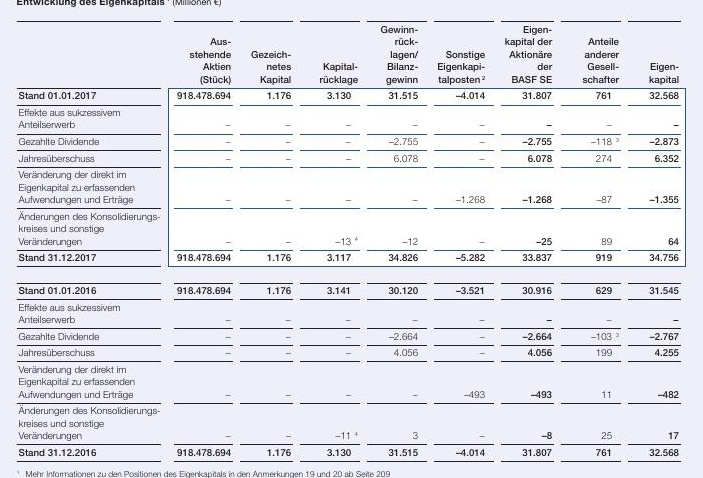table: (0, 0, 703, 478)
